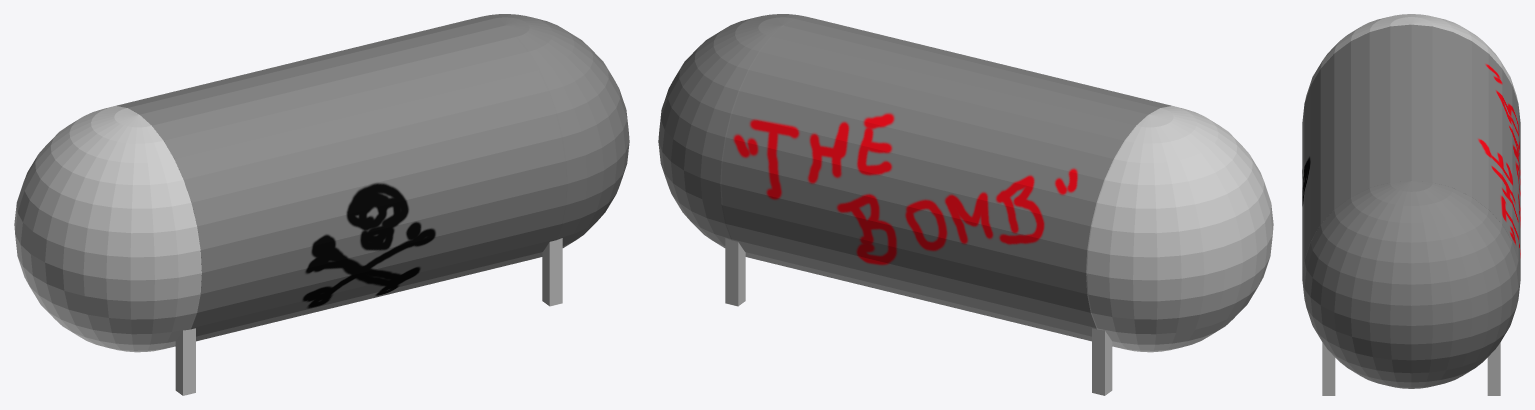
Rendered from Bomb.fbx.
3 renders of one model, left to right at view 1: azimuth 30°, elevation 25°; view 2: azimuth 150°, elevation 25°; view 3: azimuth 270°, elevation 25°, orthographic. The views are drawn at different scales.
Visible parts, largest first — view 1: Cylinder, BackBall, FrontBall, Leg4, Leg3; view 2: Cylinder, BackBall, FrontBall, Leg2, Leg1; view 3: FrontBall, Cylinder, BackBall, Leg1, Leg3.
Part boxes in pixels (box(x1,y1,x2,y2)): Cylinder: box(116, 17, 566, 346); BackBall: box(14, 106, 201, 352); FrontBall: box(481, 14, 629, 257); Leg4: box(175, 328, 195, 395); Leg3: box(542, 238, 562, 306); Cylinder: box(721, 17, 1171, 346); BackBall: box(1086, 106, 1273, 352); FrontBall: box(658, 14, 806, 257); Leg2: box(1092, 328, 1112, 395); Leg1: box(725, 238, 745, 306); FrontBall: box(1302, 180, 1520, 388); Cylinder: box(1302, 24, 1520, 277); BackBall: box(1303, 14, 1519, 115); Leg1: box(1487, 342, 1500, 395); Leg3: box(1322, 342, 1335, 395).
Bounding box in the file's own units: 540 × 215 × 200.
